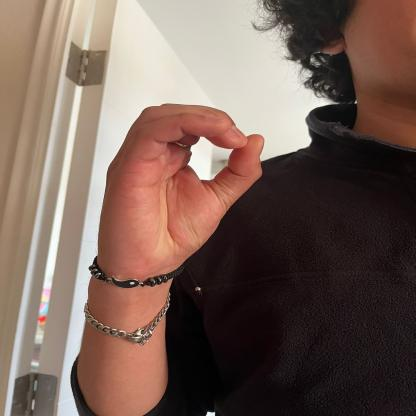O: (102, 96, 268, 269)
